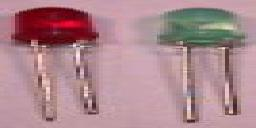LED: (11, 7, 104, 125), (156, 8, 247, 123)
